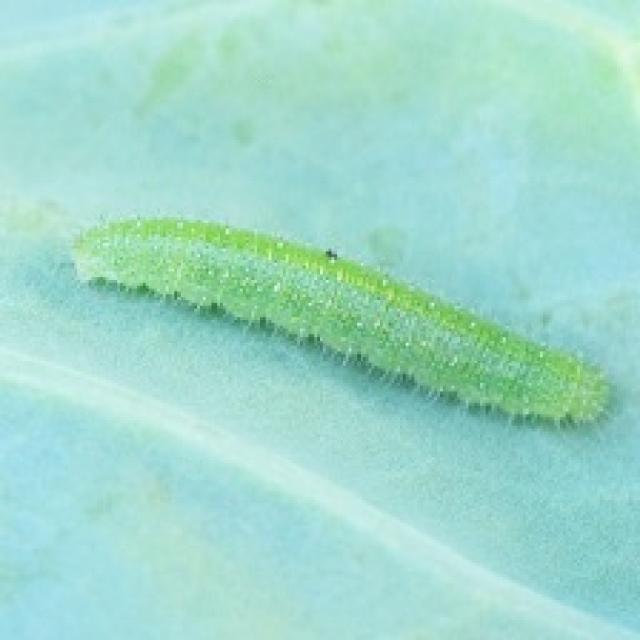Cabbage-worm: (61, 199, 612, 440)
